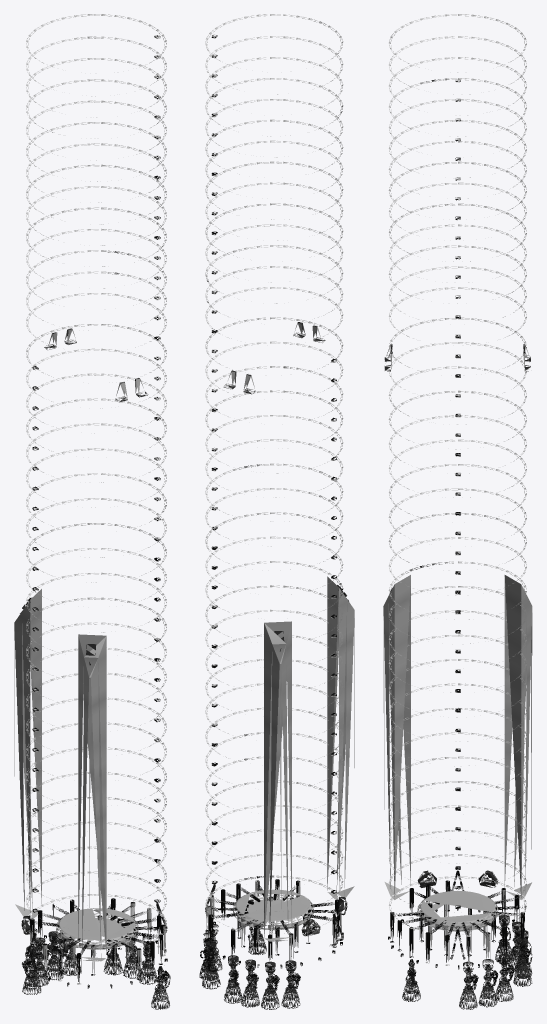
Rendered from ESP-Starship-Part-003.obj.
3 renders of one model, left to right at view 1: azimuth 30°, elevation 25°; view 2: azimuth 150°, elevation 25°; view 3: azimuth 270°, elevation 25°, orthographic. The views are drawn at different scales.
Visible parts, largest first — view 1: Booster__Superheavy_Block_3_V4_Cylinder.025; view 2: Booster__Superheavy_Block_3_V4_Cylinder.025; view 3: Booster__Superheavy_Block_3_V4_Cylinder.025.
Part boxes in pixels (x1,y1,x2,y2): Booster__Superheavy_Block_3_V4_Cylinder.025: (14, 14, 170, 1009); Booster__Superheavy_Block_3_V4_Cylinder.025: (199, 14, 354, 1009); Booster__Superheavy_Block_3_V4_Cylinder.025: (383, 14, 532, 1009).
Bounding box in the file's own units: 10.04 × 67.32 × 9.72.
1 material, 1 textured.
